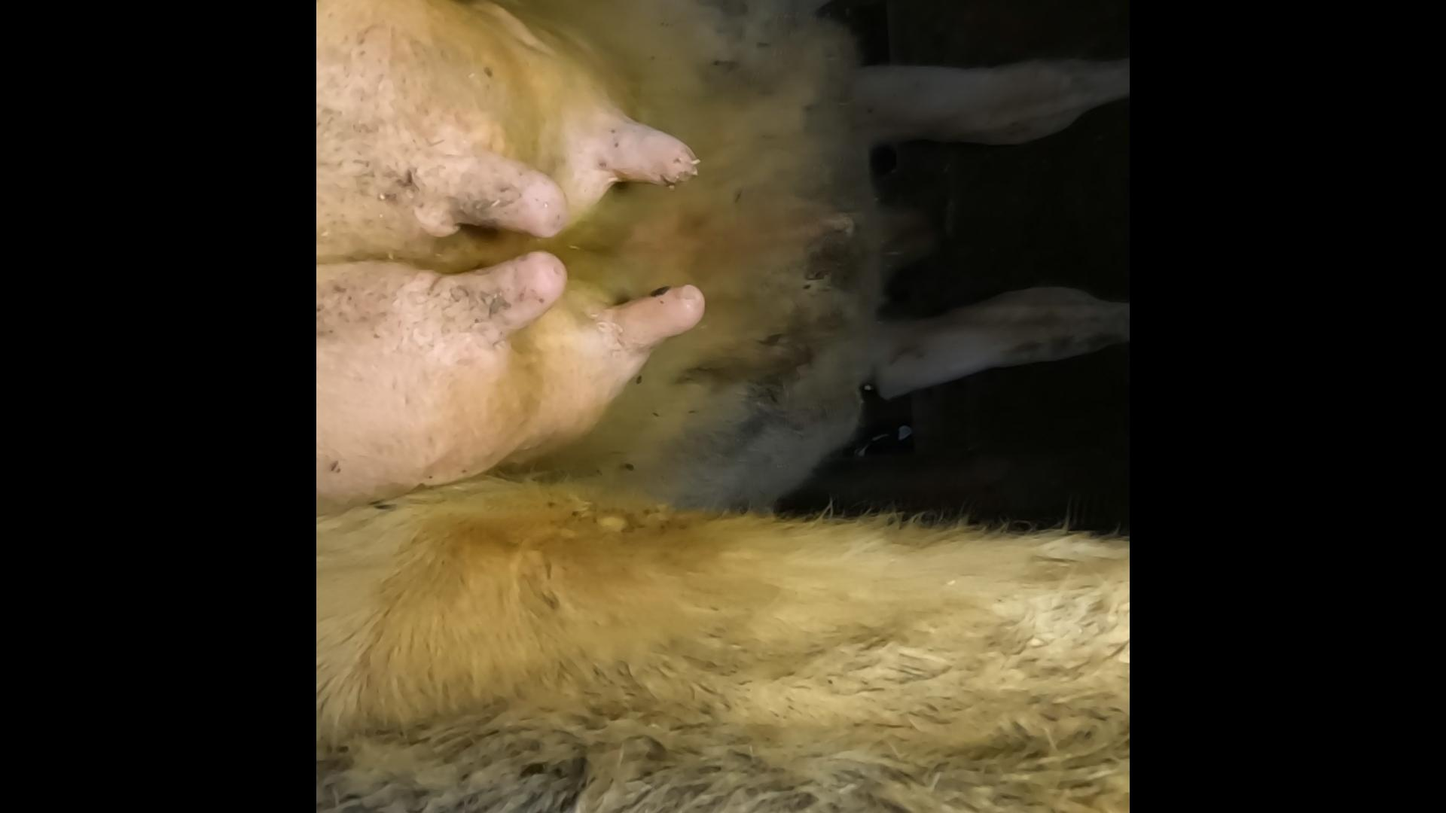Zitze: (437, 134, 569, 248), (453, 244, 570, 347), (593, 99, 714, 196), (592, 276, 726, 354)
